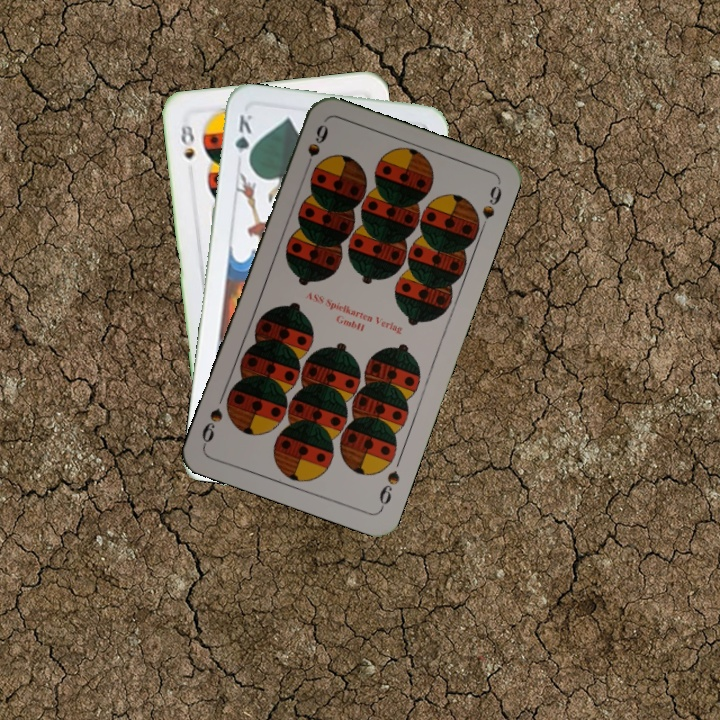GK: (230, 110, 255, 168)
S8: (176, 120, 197, 162)
S9: (300, 120, 331, 177), (375, 466, 403, 512)
